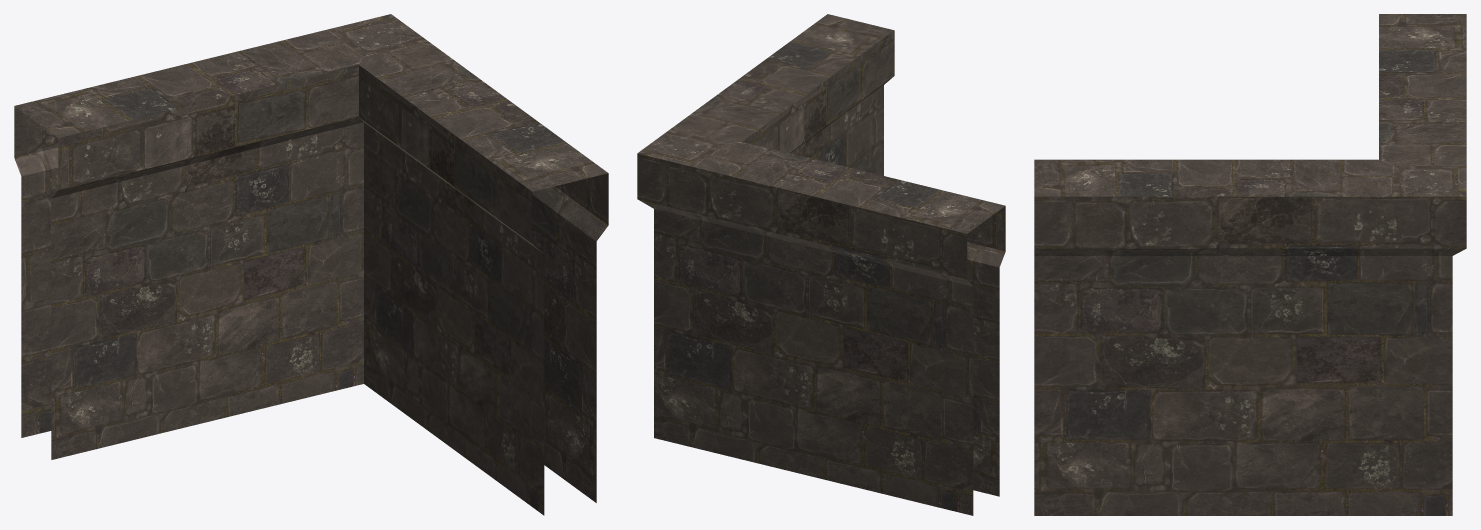
The model's file is SM_Wall_Corner.fbx.
3 views of the same model, side by side, from view 1: azimuth 30°, elevation 25°; view 2: azimuth 150°, elevation 25°; view 3: azimuth 270°, elevation 25° (orthographic). The views are drawn at different scales.
Visible parts, largest first — view 1: Wall_Corner; view 2: Wall_Corner; view 3: Wall_Corner.
Part boxes in pixels (x1=…): Wall_Corner: x1=14, y1=14, x2=608, y2=515; Wall_Corner: x1=637, y1=14, x2=1005, y2=515; Wall_Corner: x1=1034, y1=14, x2=1466, y2=515.
Bounding box in the file's own units: 362 × 300 × 362.
1 material, 1 textured.
